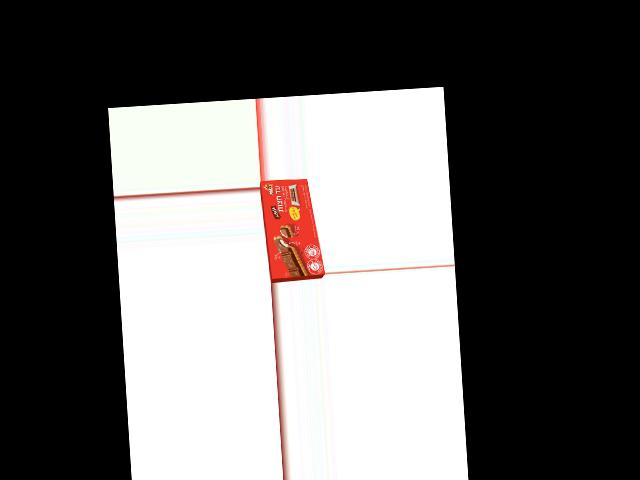chocolate: (263, 177, 319, 281)
